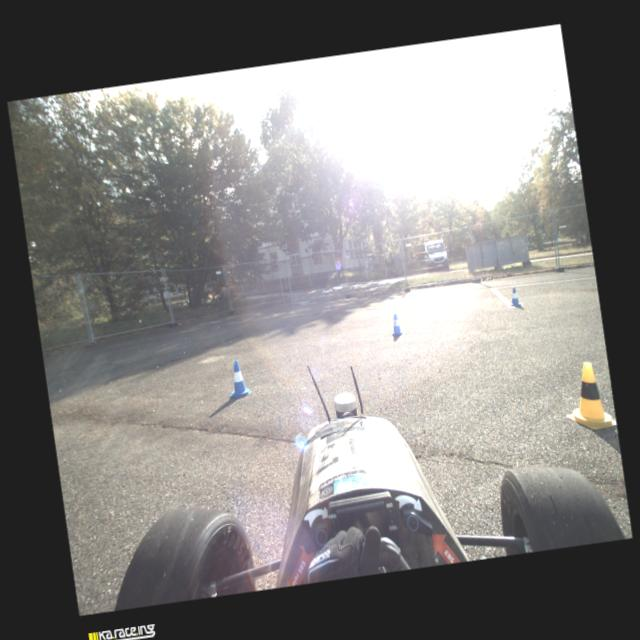blue_cone: (225, 358, 253, 399), (388, 313, 404, 337), (508, 286, 523, 308)
yellow_cone: (558, 359, 616, 433)
